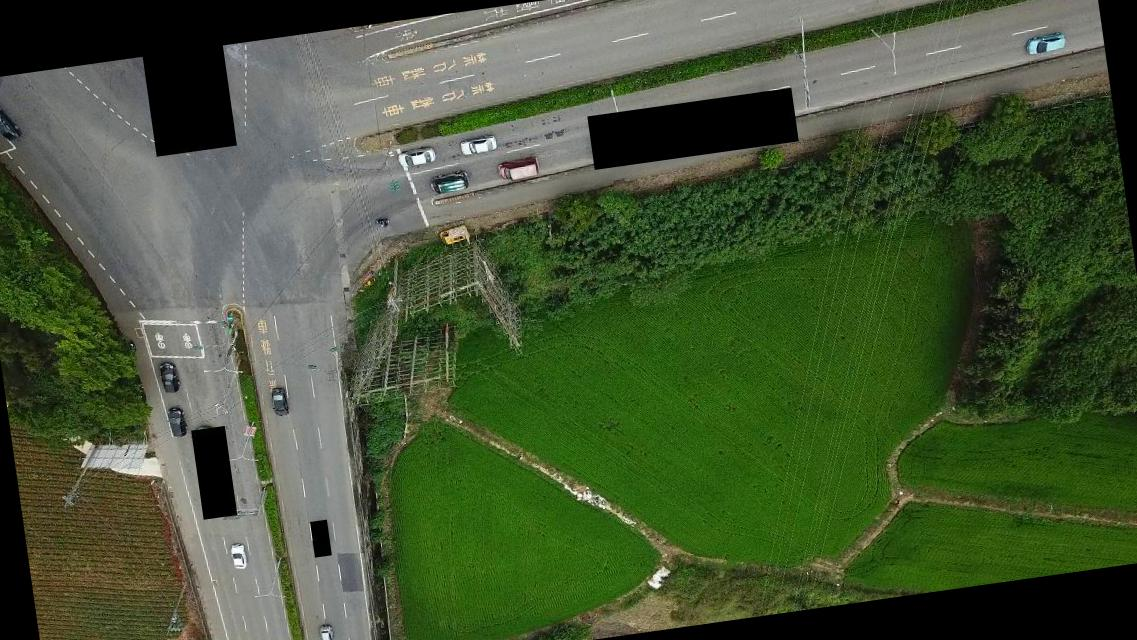vehicle: (497, 156, 542, 183), (427, 168, 470, 196), (395, 145, 436, 172), (455, 134, 501, 157), (1026, 30, 1066, 56), (156, 359, 181, 396), (164, 404, 188, 440), (0, 101, 19, 144), (268, 384, 290, 419), (437, 226, 470, 248), (227, 544, 248, 574), (316, 626, 336, 639)
